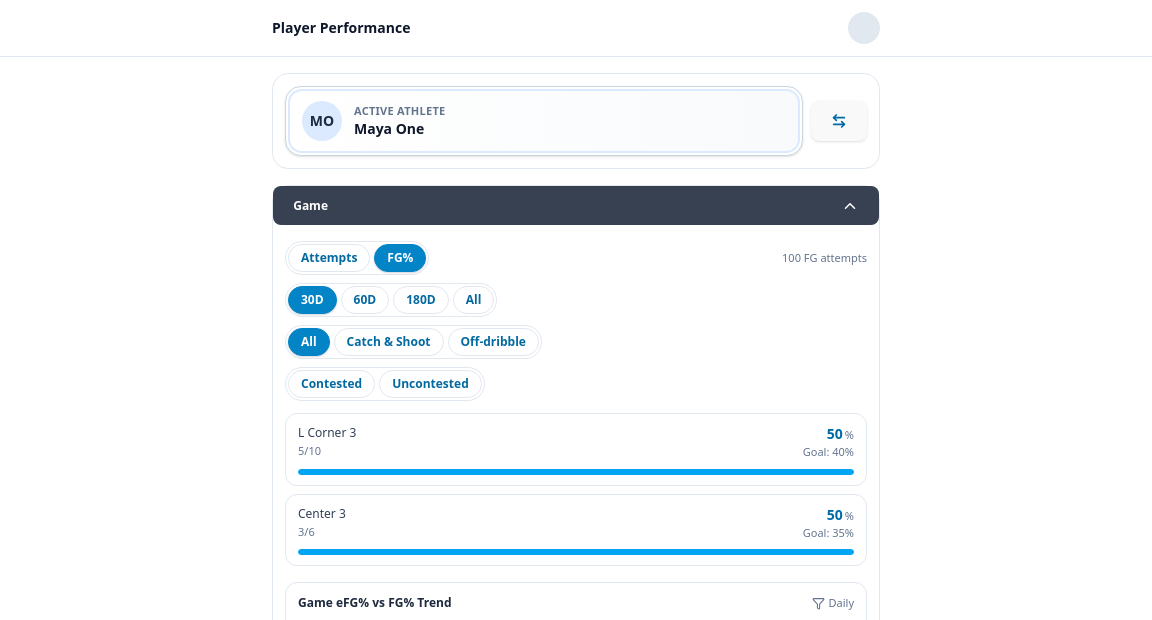
Performance Component › User Interaction Tests - Accordion › should toggle Game section back to expanded
The image size is (1152, 620).
Click the button "Game".
click(311, 205)  # box [273, 186, 879, 225]
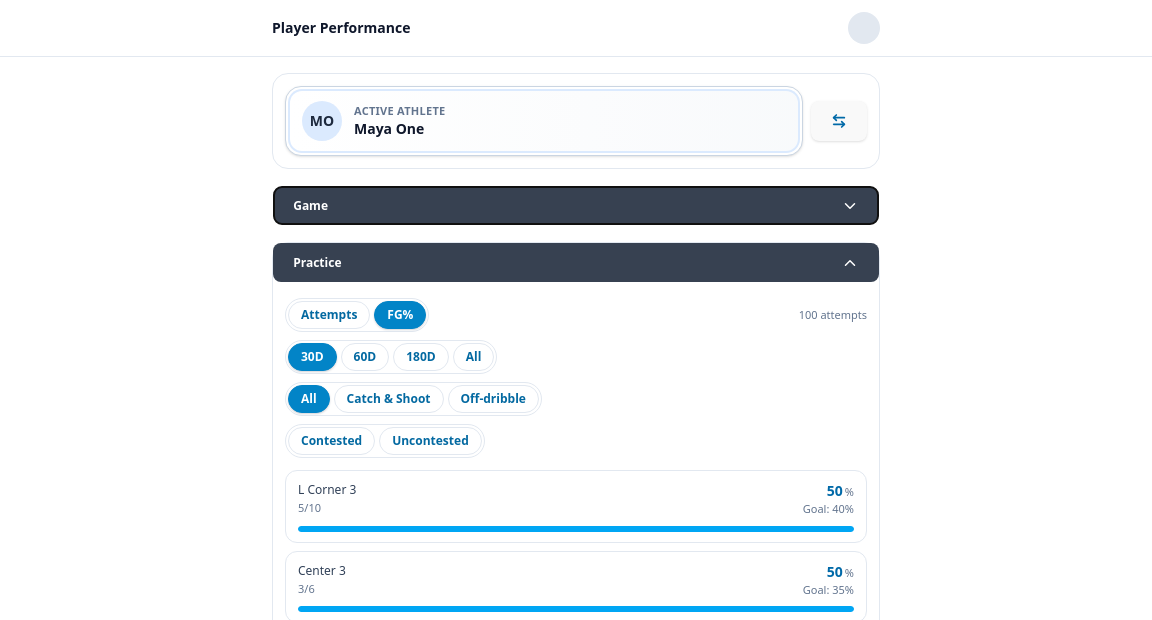
Click the button "Game".
click(311, 205)  # box [273, 186, 879, 225]
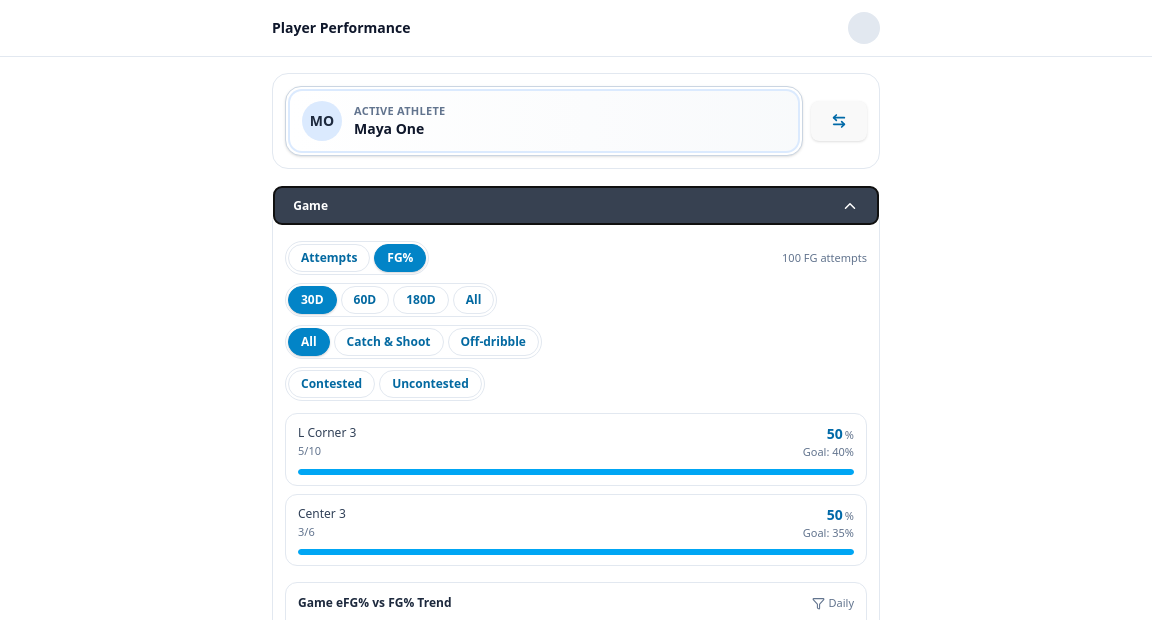
Expected: the button "30D" is shown, [288, 286, 337, 314]
